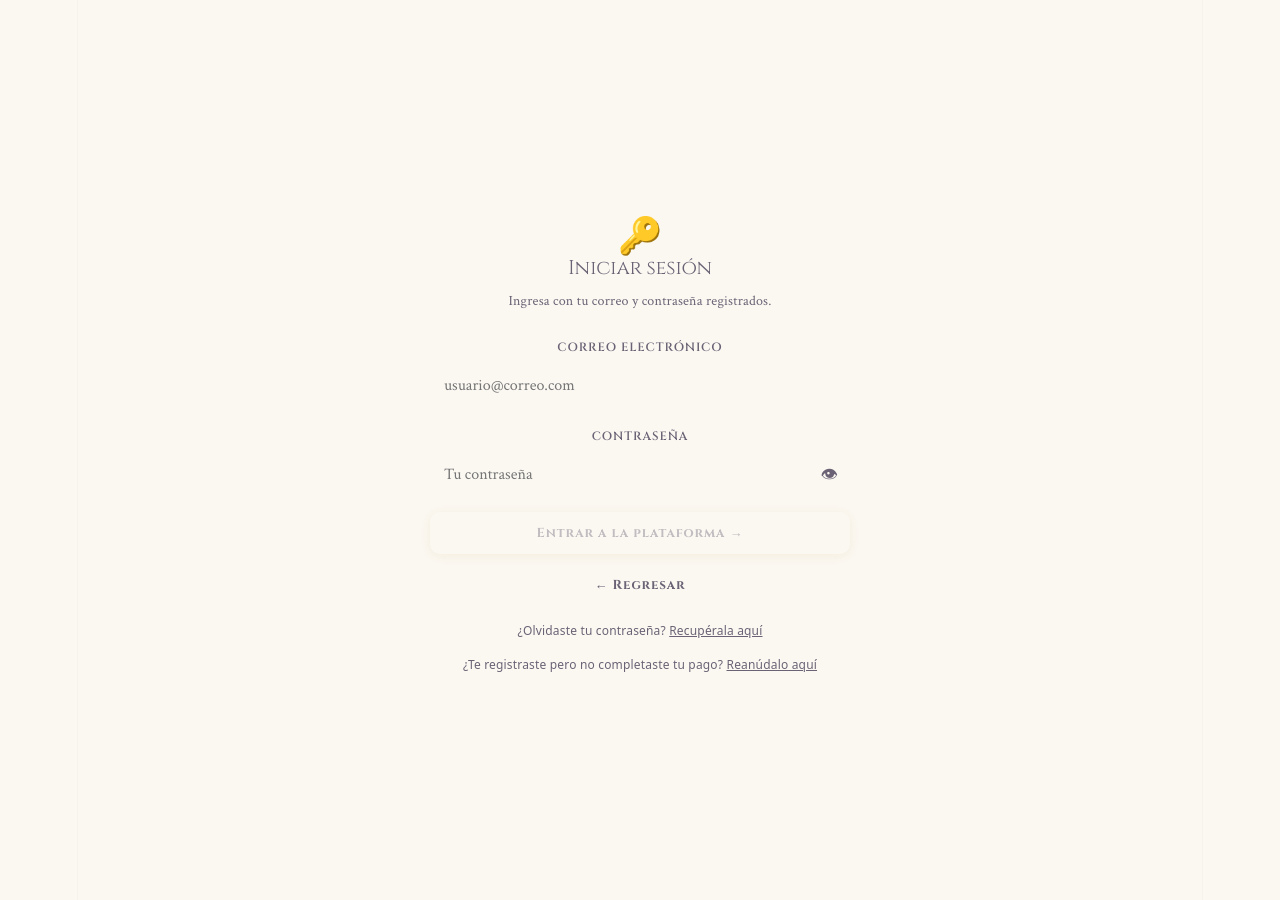
it: LoginModal › el botón de entrar está deshabilitado hasta correo válido + contraseña ≥6
The width and height of the screenshot is (1280, 900).
Expected: the button "Entrar a la plataforma →" is disabled, [430,512,850,554]
Type "juan@correo.com" into the field with placeholder "usuario@correo.com" at (640, 385), box [430,364,850,407]
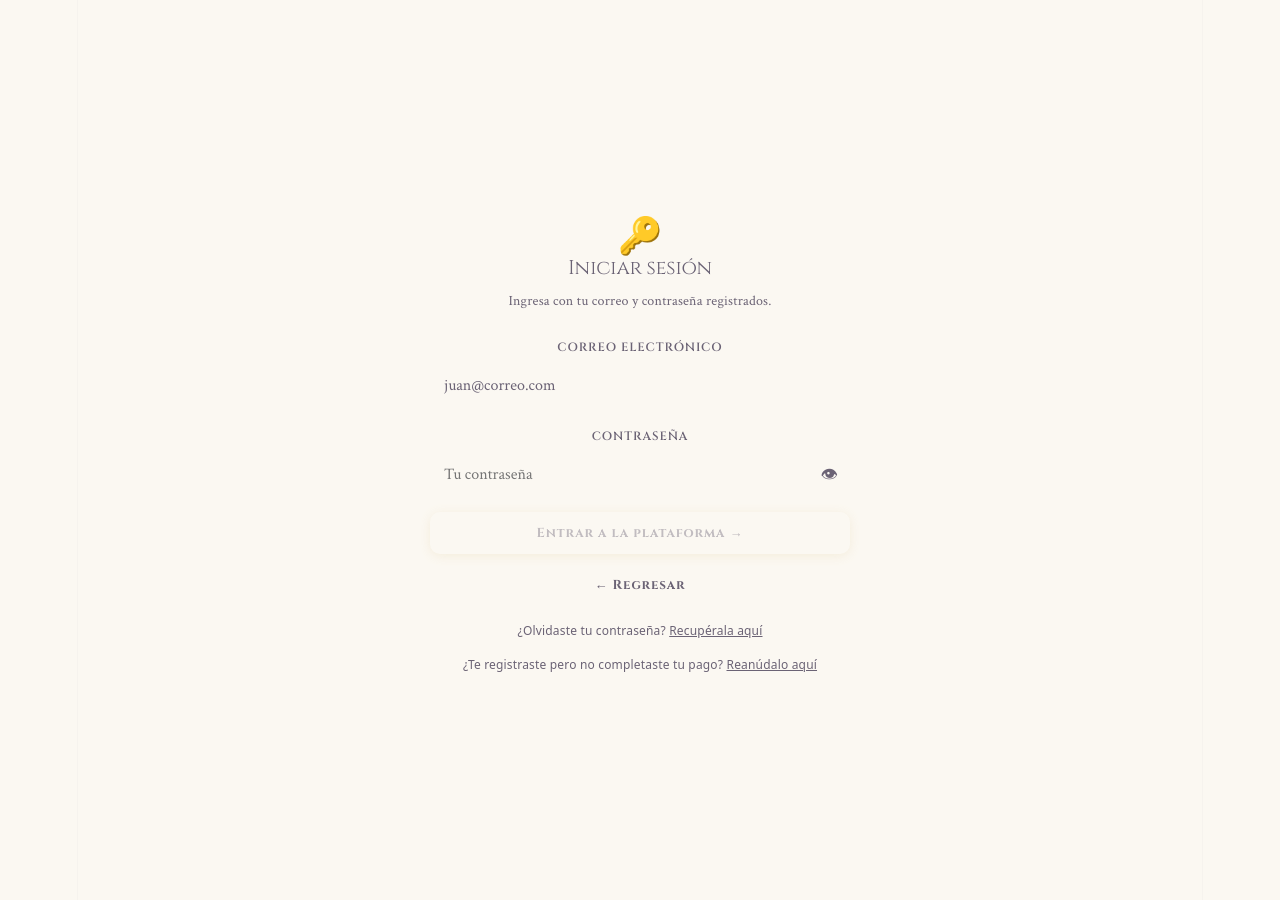
Type "secreta1" into the password field with placeholder "Tu contraseña" at (640, 474), box [430,453,850,496]
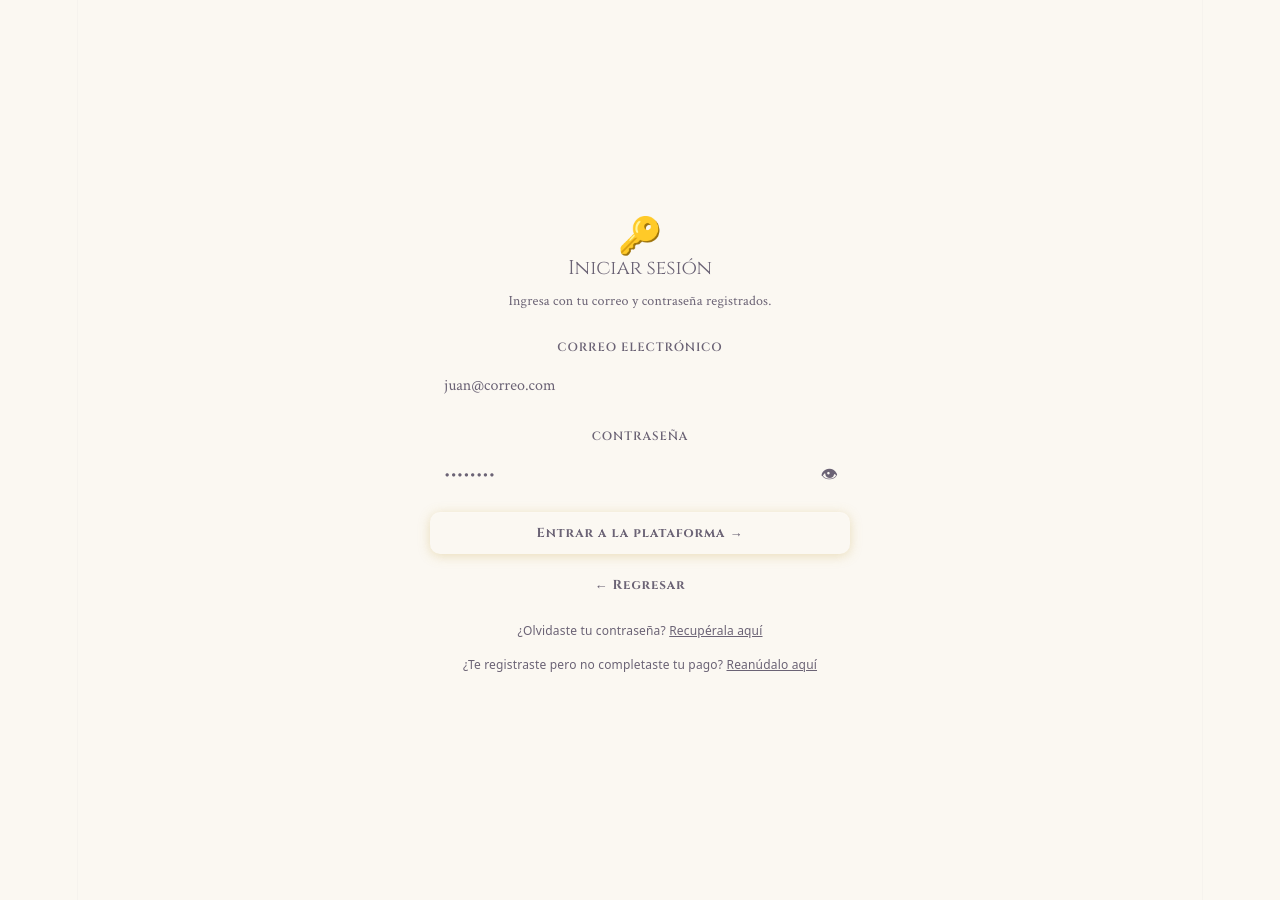
Result: the button "Entrar a la plataforma →" is enabled at [430,512,850,554]
